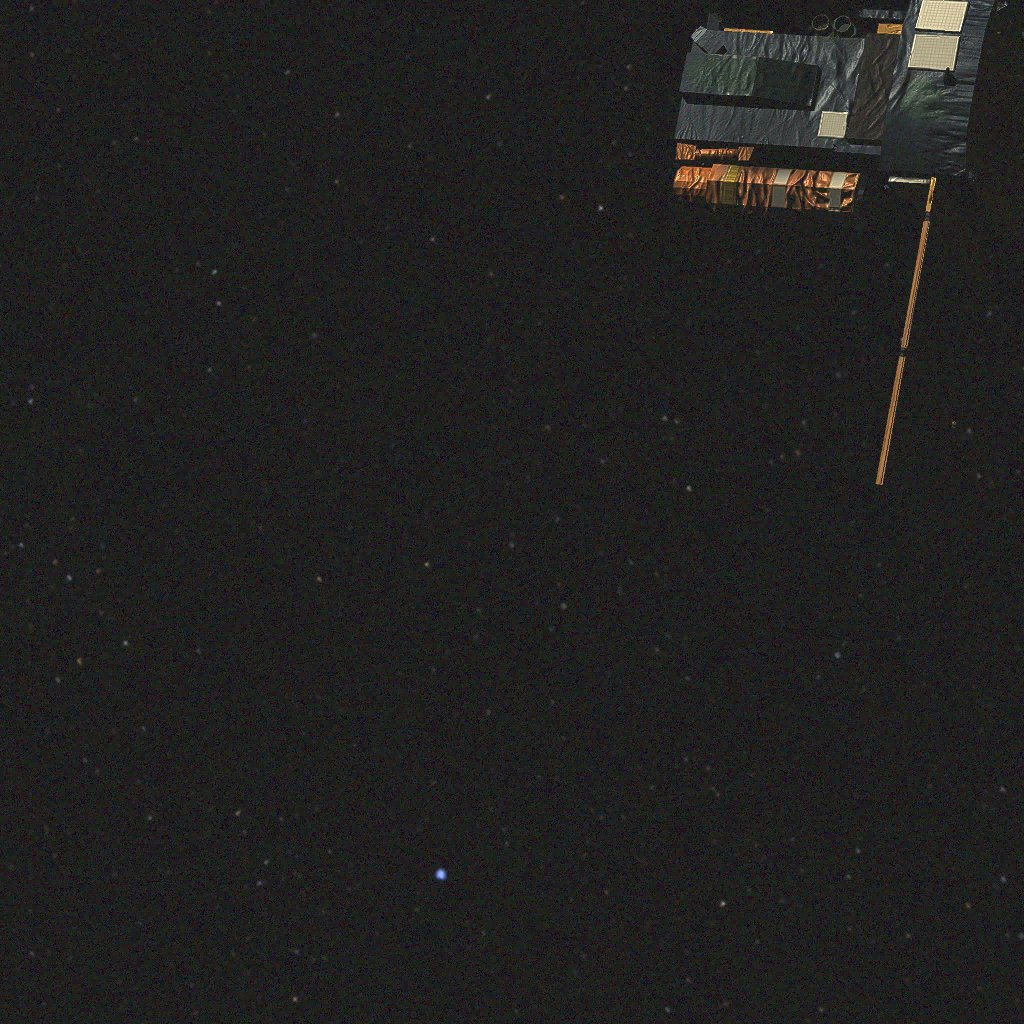soho: (673, 0, 1024, 555)
